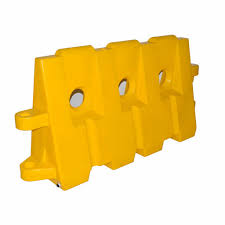barrier: (19, 34, 199, 189)
